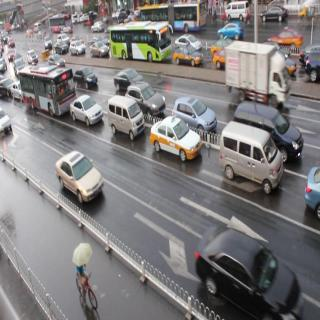BigCar: (226, 34, 288, 110), (18, 63, 74, 118), (113, 25, 172, 60)
Car: (206, 219, 299, 312), (221, 121, 278, 187), (54, 146, 99, 208), (153, 117, 202, 168), (127, 76, 173, 115), (168, 92, 213, 130), (110, 89, 138, 146), (64, 92, 102, 124), (172, 44, 203, 76), (77, 70, 99, 90)
